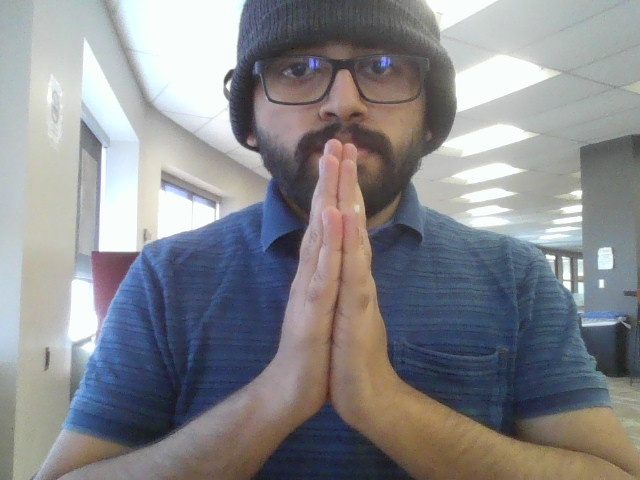start: (263, 136, 434, 445)
